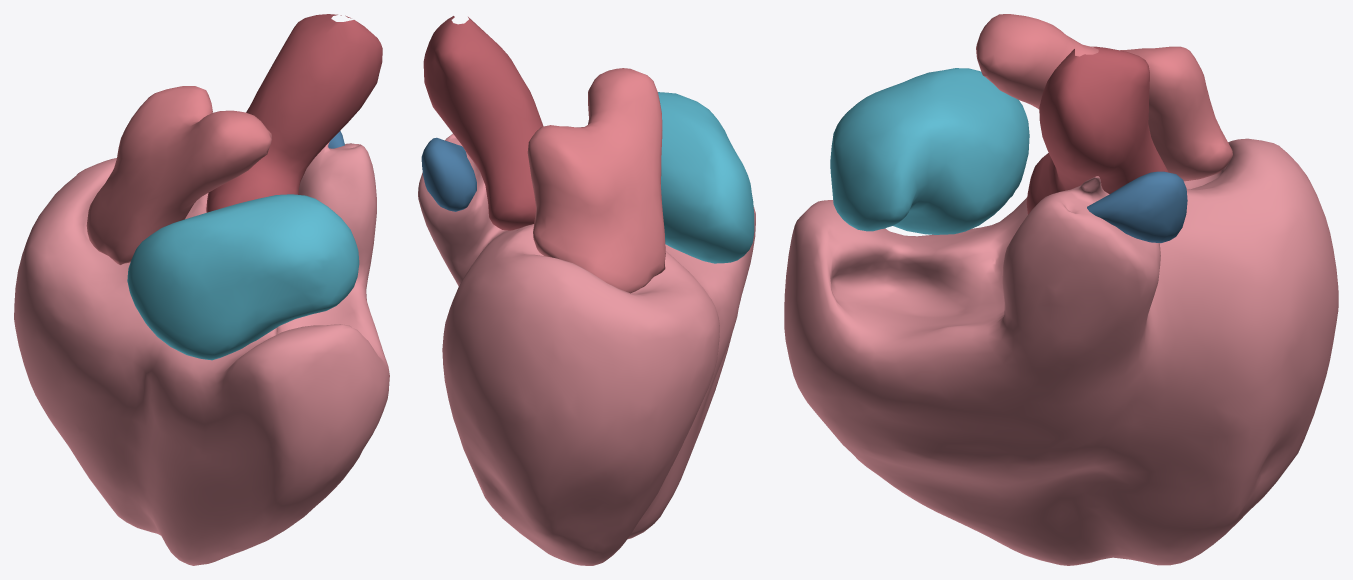
Rendered from frame_39.glb.
The picture shows the model from 3 angles, left to right: view 1: azimuth 30°, elevation 25°; view 2: azimuth 150°, elevation 25°; view 3: azimuth 270°, elevation 25°; orthographic projection. The views are drawn at different scales.
Parts seen in each view (by area): view 1: Renderer Node; view 2: Renderer Node; view 3: Renderer Node.
Part boxes in pixels (<box>): Renderer Node: <box>14,14,389,565</box>; Renderer Node: <box>418,16,755,565</box>; Renderer Node: <box>784,14,1338,565</box>.
Size of the model in its own units: 107 by 164 by 136.
